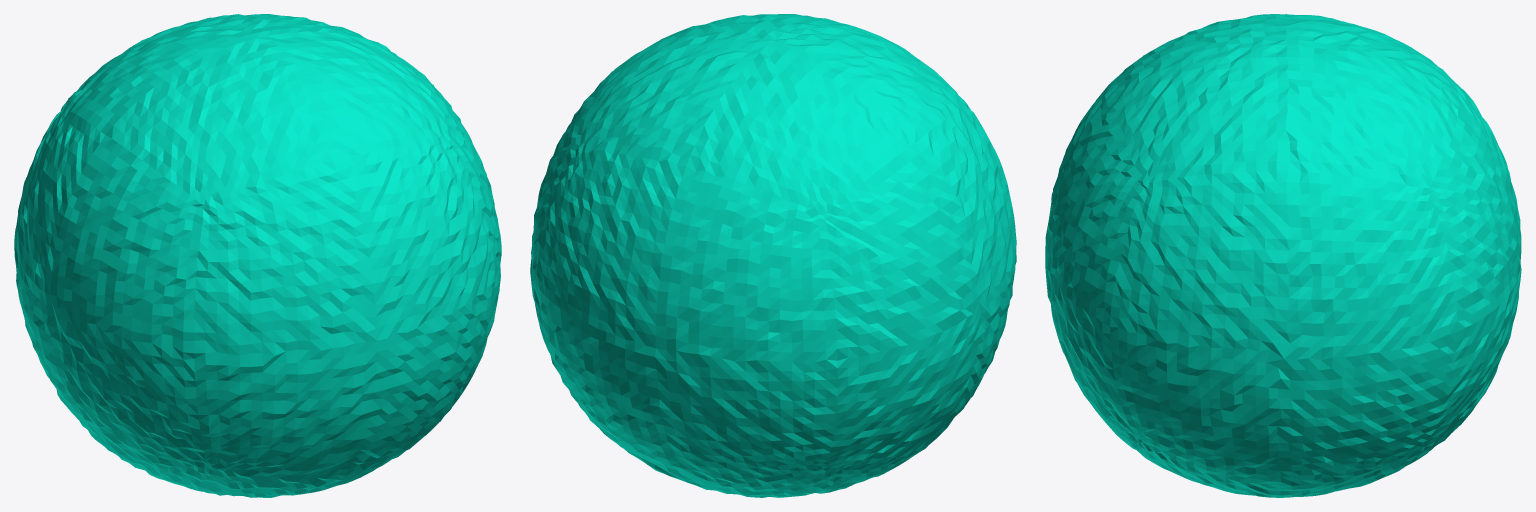
Rendered from Sea19.fbx.
3 views of the same model, side by side, from view 1: azimuth 30°, elevation 25°; view 2: azimuth 150°, elevation 25°; view 3: azimuth 270°, elevation 25° (orthographic).
Parts seen in each view (by area): view 1: pCube1; view 2: pCube1; view 3: pCube1.
Boxes of the visible parts, bbox=[...] form: pCube1: bbox=[14, 14, 501, 497]; pCube1: bbox=[530, 14, 1016, 497]; pCube1: bbox=[1045, 14, 1521, 497].
Bounding box in the file's own units: 40.04 × 40 × 39.96.
